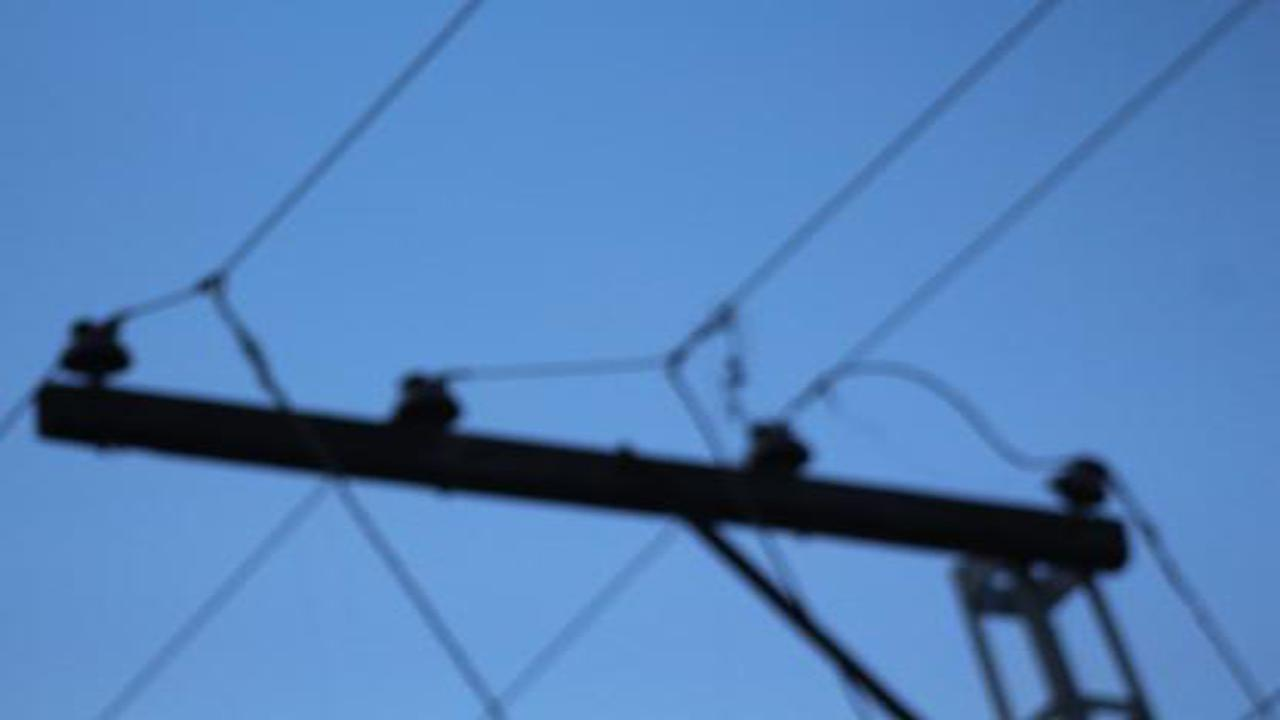defect_pin: (1048, 448, 1118, 514)
insulator_pin: (52, 309, 140, 383), (384, 367, 465, 435), (735, 417, 820, 476)
